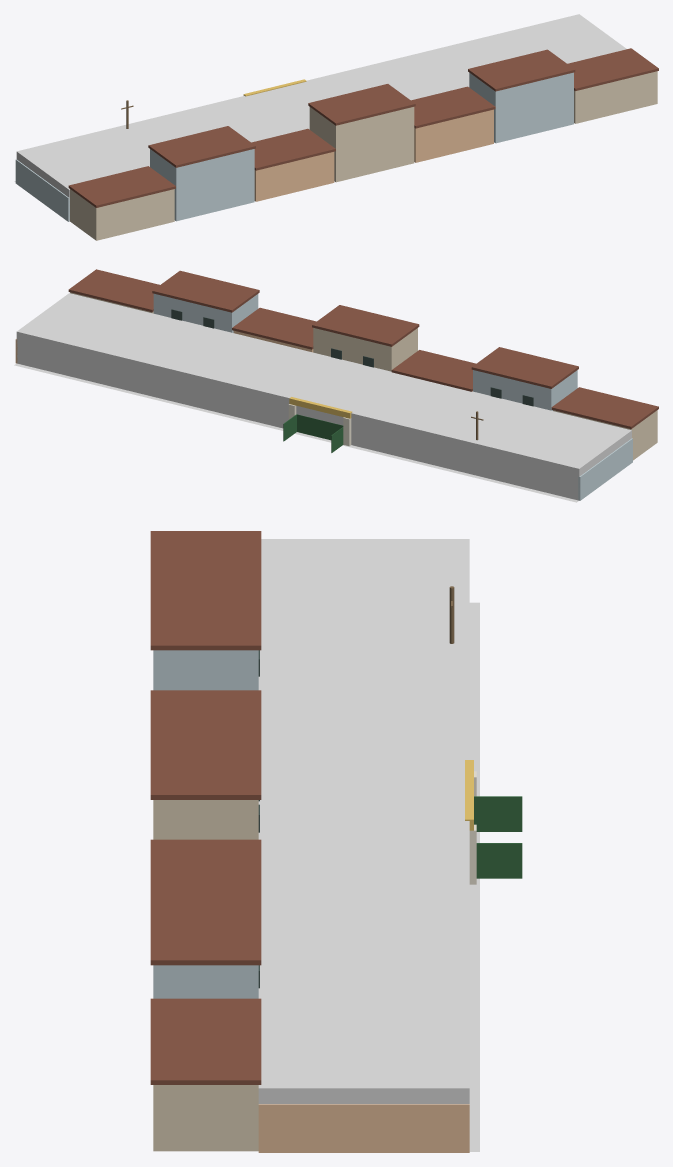
Rendered from zone_gate.glb.
3 views of the same model, one above another, from view 1: azimuth 30°, elevation 25°; view 2: azimuth 150°, elevation 25°; view 3: azimuth 270°, elevation 25° (orthographic). The views are drawn at different scales.
Visible parts, largest first — view 1: ZONE_gate, HOUSE_4, HOUSE_2, HOUSE_6, HOUSE_1, HOUSE_7, HOUSE_5, HOUSE_3, WALL_alley_end_west; view 2: ZONE_gate, HOUSE_4, HOUSE_2, HOUSE_6, HOUSE_1, HOUSE_5, HOUSE_7, HOUSE_3, FLOOR_alley, WALL_alley_end_west, GATE_frame, GATE_leaves_closed (+1 smaller); view 3: ZONE_gate, HOUSE_7, HOUSE_2, HOUSE_4, HOUSE_6, WALL_alley_end_east, HOUSE_5, FLOOR_alley, HOUSE_1, GATE_leaves_open, HOUSE_3, GATE_frame.
Boxes of the visible parts, x1=… form: ZONE_gate: x1=16, y1=14, x2=626, y2=221; HOUSE_4: x1=308, y1=84, x2=415, y2=182; HOUSE_2: x1=148, y1=126, x2=255, y2=221; HOUSE_6: x1=468, y1=49, x2=575, y2=143; HOUSE_1: x1=68, y1=166, x2=175, y2=240; HOUSE_7: x1=567, y1=48, x2=658, y2=123; HOUSE_5: x1=411, y1=86, x2=495, y2=162; HOUSE_3: x1=251, y1=128, x2=335, y2=201; WALL_alley_end_west: x1=15, y1=159, x2=69, y2=221; ZONE_gate: x1=16, y1=293, x2=631, y2=500; HOUSE_4: x1=312, y1=305, x2=419, y2=371; HOUSE_2: x1=471, y1=347, x2=578, y2=410; HOUSE_6: x1=152, y1=270, x2=259, y2=332; HOUSE_1: x1=551, y1=387, x2=658, y2=460; HOUSE_5: x1=232, y1=307, x2=316, y2=352; HOUSE_7: x1=68, y1=269, x2=159, y2=313; HOUSE_3: x1=391, y1=350, x2=475, y2=391; FLOOR_alley: x1=14, y1=363, x2=578, y2=502; WALL_alley_end_west: x1=578, y1=438, x2=632, y2=500; GATE_frame: x1=288, y1=397, x2=352, y2=446; GATE_leaves_closed: x1=297, y1=414, x2=343, y2=440; ZONE_gate: x1=258, y1=539, x2=469, y2=1104; HOUSE_7: x1=150, y1=998, x2=261, y2=1151; HOUSE_2: x1=150, y1=567, x2=261, y2=690; HOUSE_4: x1=150, y1=717, x2=261, y2=839; HOUSE_6: x1=150, y1=882, x2=261, y2=998; WALL_alley_end_east: x1=258, y1=1104, x2=469, y2=1152; HOUSE_5: x1=150, y1=839, x2=261, y2=882; FLOOR_alley: x1=469, y1=602, x2=479, y2=1151; HOUSE_1: x1=150, y1=531, x2=261, y2=567; GATE_leaves_open: x1=474, y1=796, x2=522, y2=878; HOUSE_3: x1=150, y1=690, x2=261, y2=716; GATE_frame: x1=465, y1=760, x2=476, y2=884.
Size of what is drawn, in the model's own units: 74.25 by 7.5 by 21.15.
